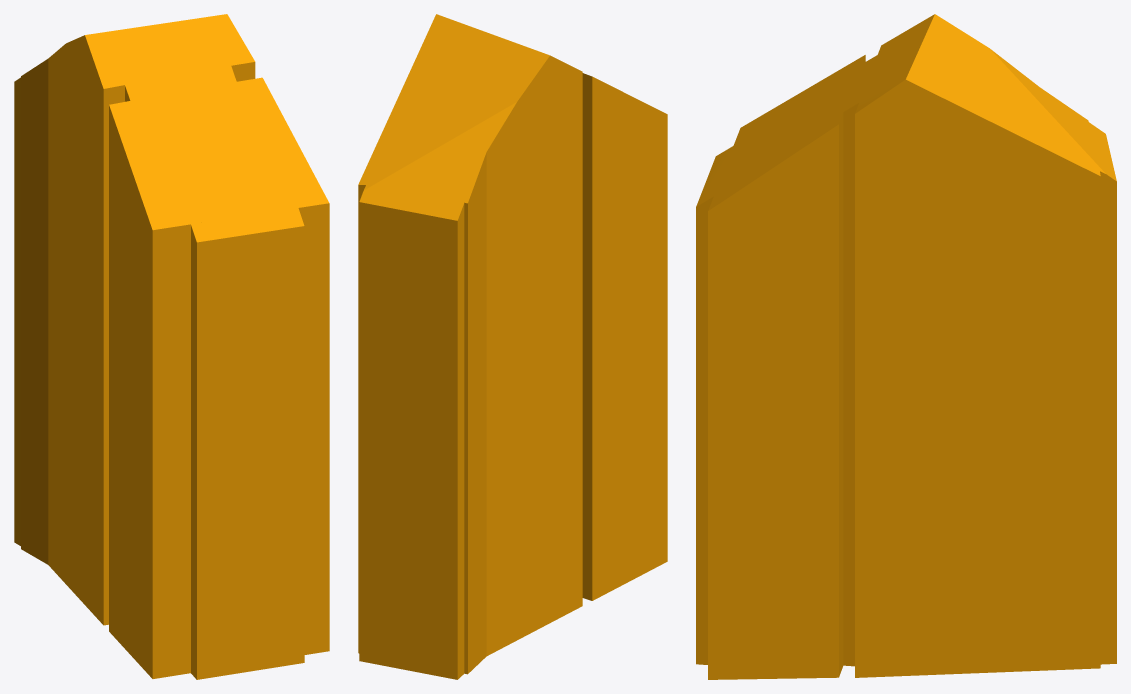
The model's file is DEHB01ALj0003Gmd.gltf.
The picture shows the model from 3 angles, left to right: view 1: azimuth 30°, elevation 25°; view 2: azimuth 150°, elevation 25°; view 3: azimuth 270°, elevation 25°; orthographic projection. The views are drawn at different scales.
Parts seen in each view (by area): view 1: Z_UP; view 2: Z_UP; view 3: Z_UP.
Boxes of the visible parts, left/top/right/bottom form: Z_UP: left=14, top=14, right=329, bottom=679; Z_UP: left=358, top=14, right=667, bottom=679; Z_UP: left=696, top=14, right=1116, bottom=679.
Size of the model in its own units: 4.89 by 16.51 by 10.56.
